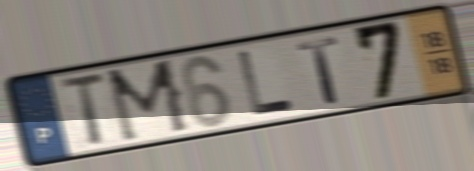6: (177, 52, 238, 130)
7: (349, 18, 405, 104)
L: (235, 48, 297, 118)
M: (103, 55, 194, 146)
T: (55, 70, 109, 150), (293, 33, 345, 107)
